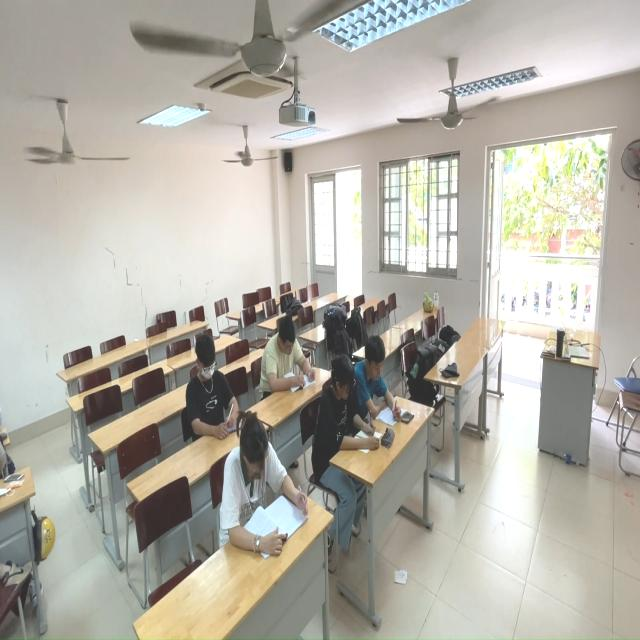read: (217, 415, 314, 559), (182, 332, 255, 449), (310, 356, 386, 464), (341, 338, 415, 445), (257, 309, 323, 396)
